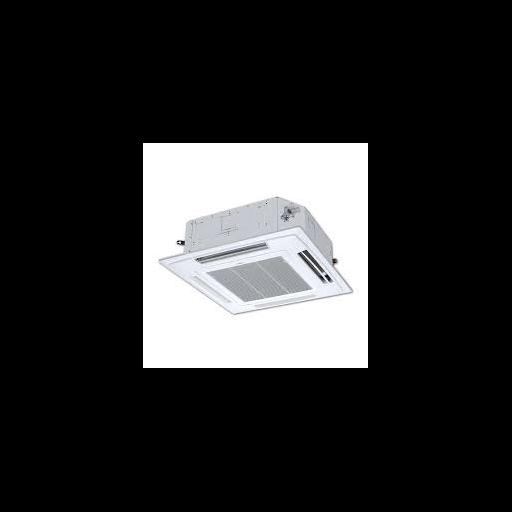4-way-ac: (160, 227, 355, 315)
